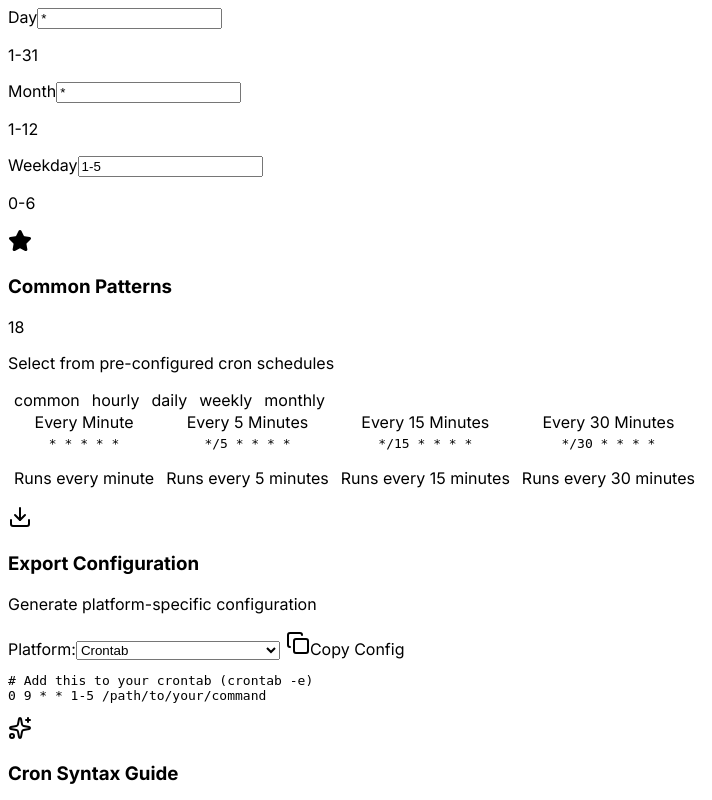
Test: CronExpressionPage › Common Patterns › should display Every Hour pattern
(page scrolled)
Click the button "hourly" at (116, 400), box [86, 389, 146, 411]
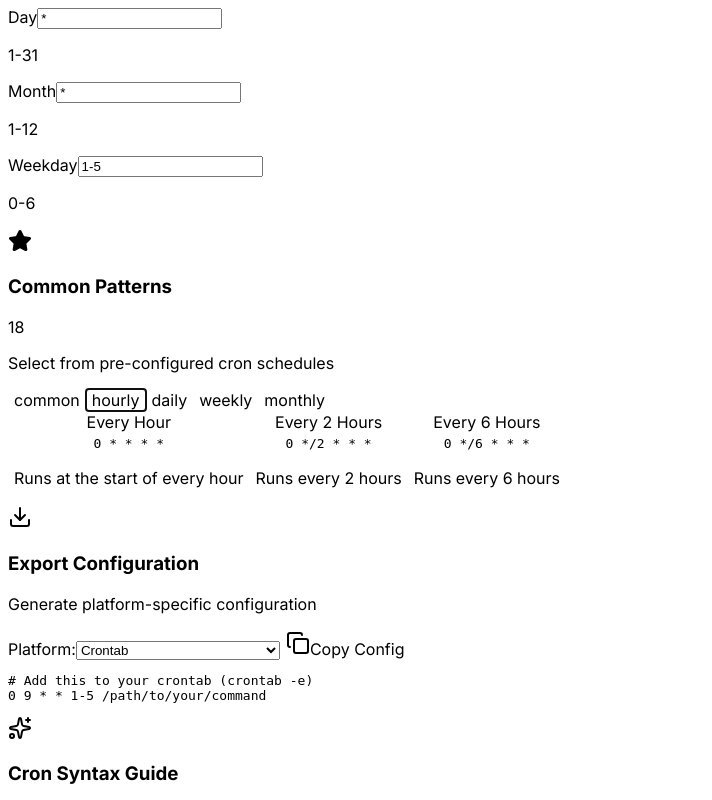
Now the button "Every Hour 0 * * * * Runs at the start of every hour" is shown, box [8, 411, 250, 505]
